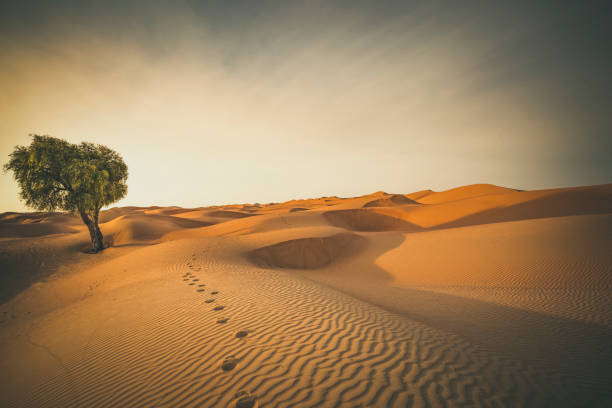human_foot_print: (182, 272, 205, 292), (234, 391, 258, 407), (235, 391, 258, 407), (221, 356, 237, 370), (182, 272, 198, 285), (235, 330, 249, 337), (217, 317, 228, 323), (182, 273, 191, 280), (213, 305, 224, 310), (183, 273, 192, 279), (182, 273, 190, 278), (189, 274, 197, 279), (210, 291, 219, 295), (182, 272, 190, 276), (204, 299, 214, 302), (188, 265, 194, 270), (183, 278, 190, 282), (184, 271, 191, 275), (187, 275, 192, 280), (187, 263, 192, 268), (196, 288, 204, 291), (197, 283, 205, 286), (191, 259, 195, 264), (183, 278, 189, 281), (188, 282, 194, 285), (192, 278, 198, 281), (192, 254, 195, 260), (186, 262, 190, 266), (196, 267, 201, 270), (192, 253, 195, 256)
